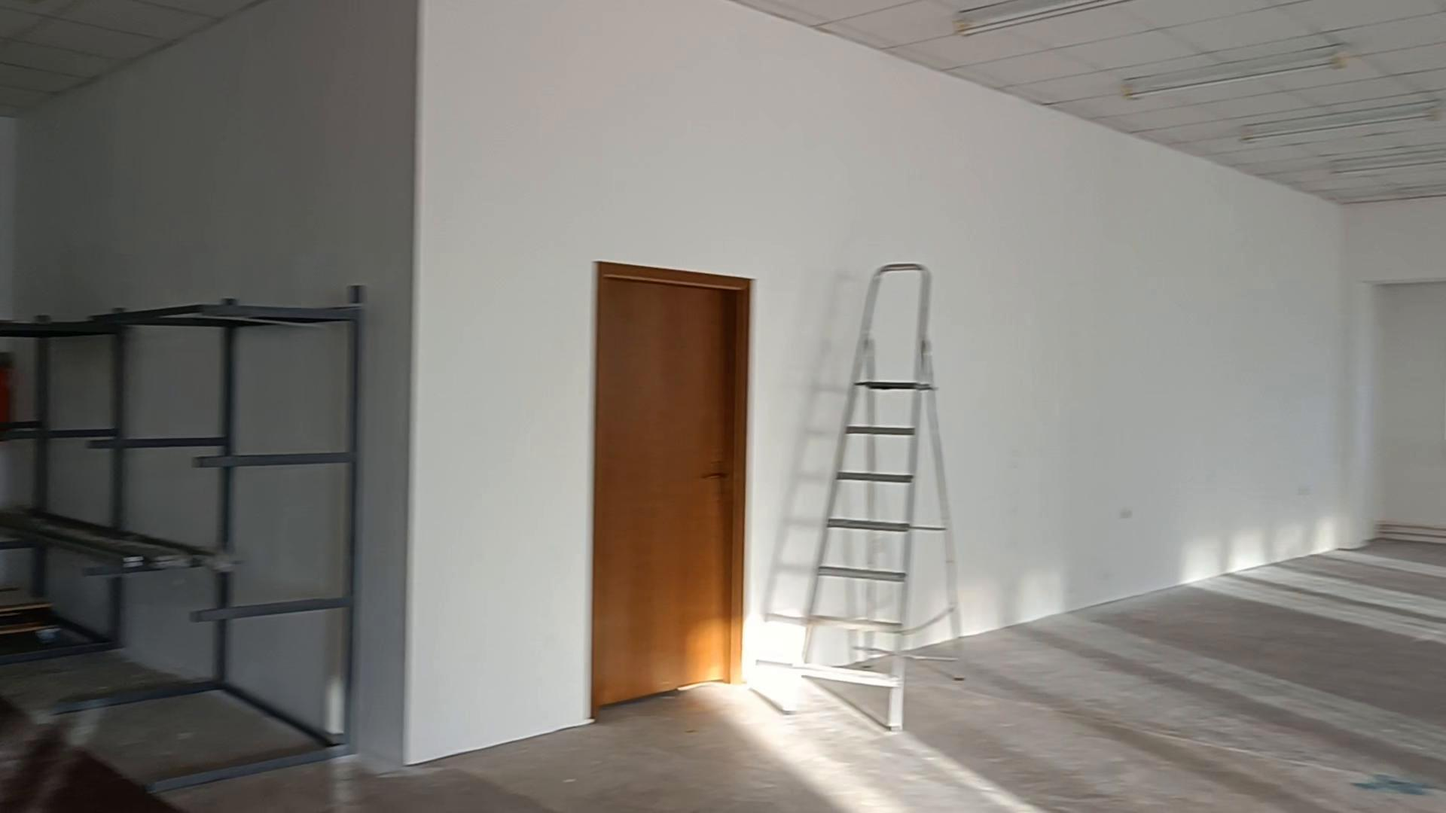ceiling: (733, 0, 1445, 202), (0, 0, 264, 115)
floor: (163, 543, 1445, 812)
wall: (0, 0, 1445, 762), (1378, 291, 1445, 532)
